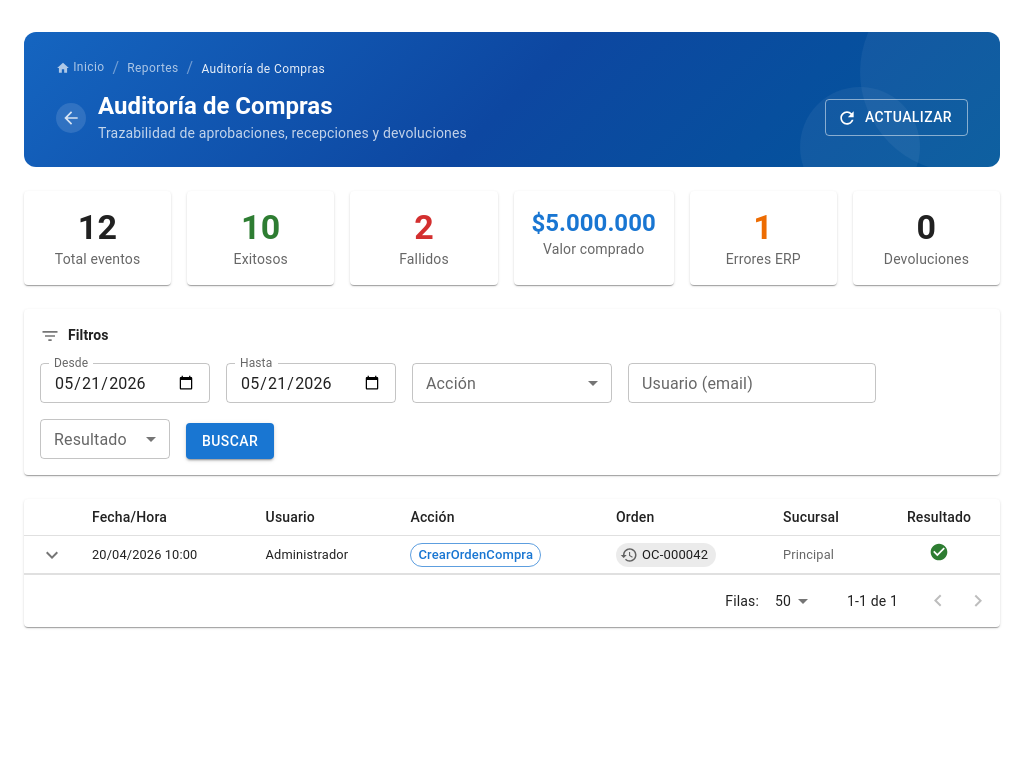
Scenario: AuditoriaComprasPage › abre el diálogo de historial al hacer clic en una orden
Click the button "OC-000042": (666, 555) [616,543,716,567]
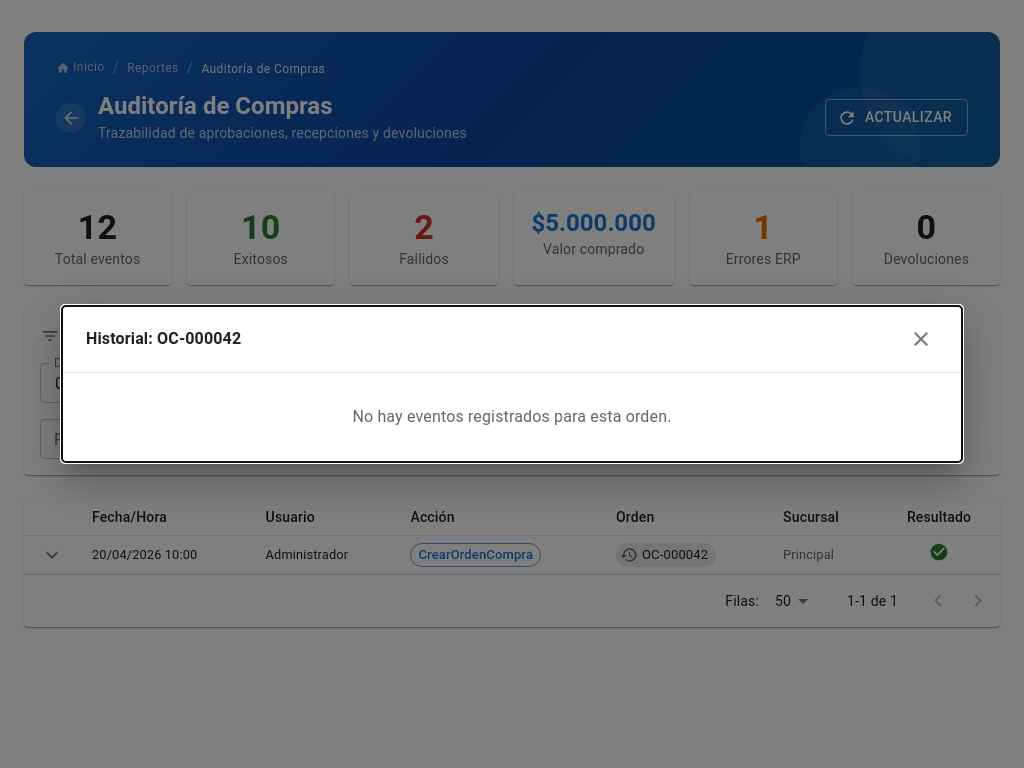
Expected: the text "Historial: OC-000042" is shown, [86,327,241,351]
